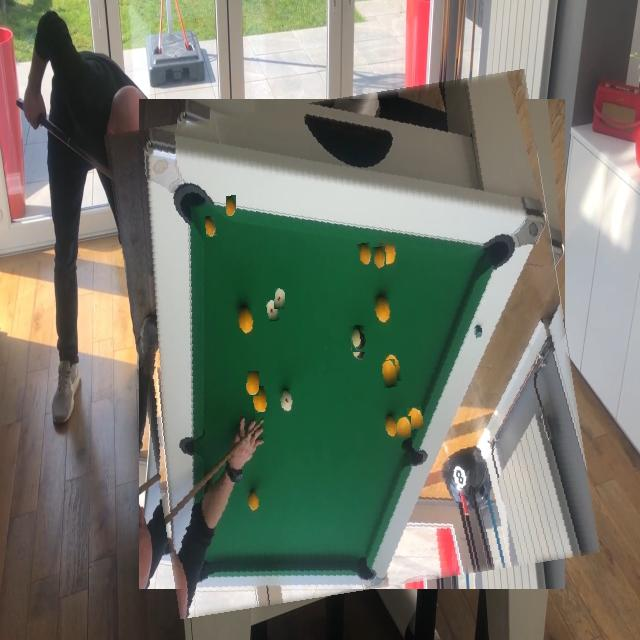Ball: (382, 360, 397, 388), (352, 326, 366, 352), (246, 372, 259, 398), (396, 416, 411, 438), (373, 246, 386, 269), (274, 288, 285, 309), (226, 195, 236, 216)
Billiard table: (122, 84, 583, 604)
